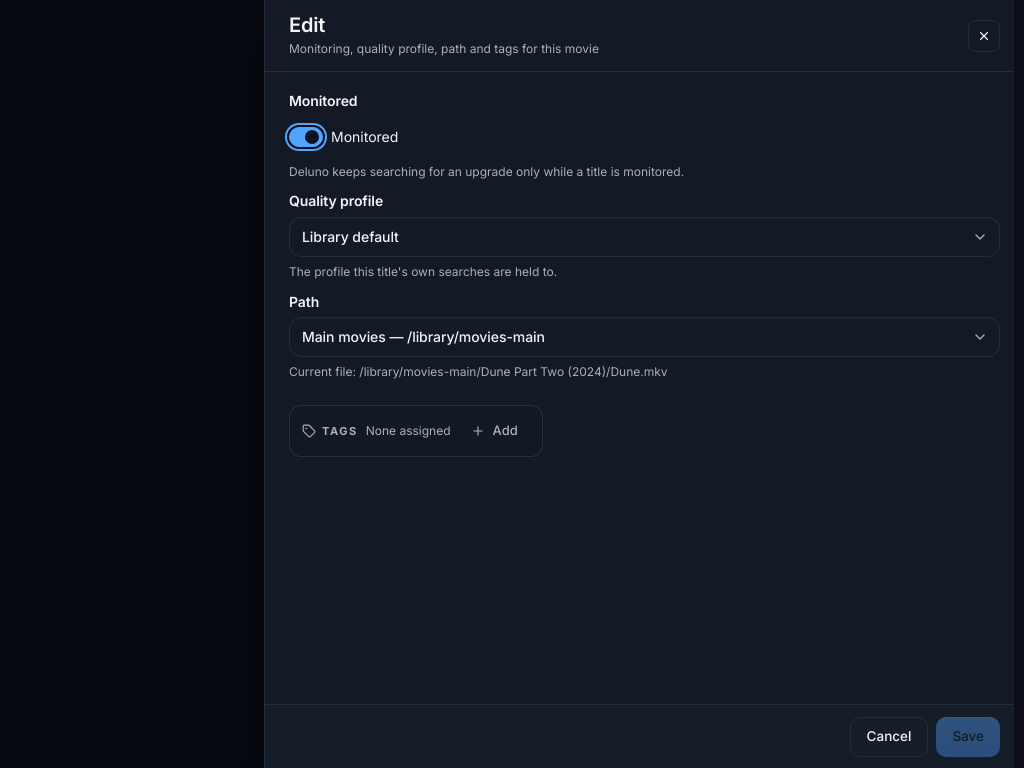
Scenario: MovieEditDrawer (#784) › the Monitored switch saves through the monitoring route for this film
The width and height of the screenshot is (1024, 768).
Expected: the dropdown labelled "Path" is shown, [289,318,1000,358]
Click the switch.
click(306, 137)  # box [289,127,323,147]
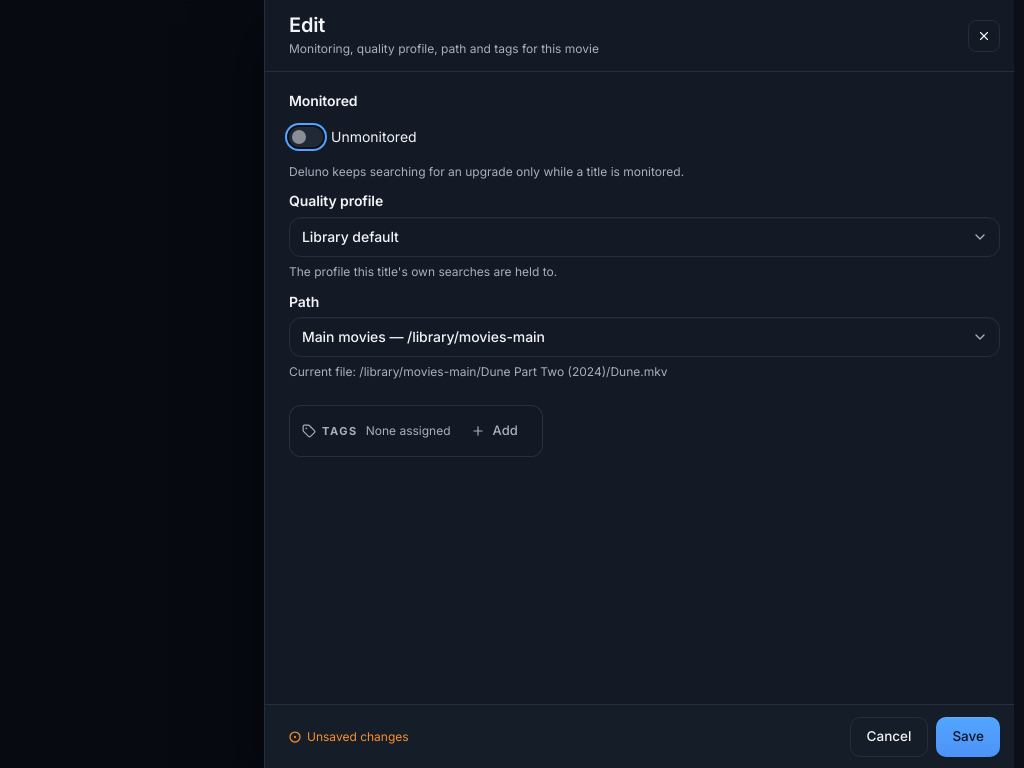
Click the button "Save".
click(968, 736)  # box [936,716,1000,756]
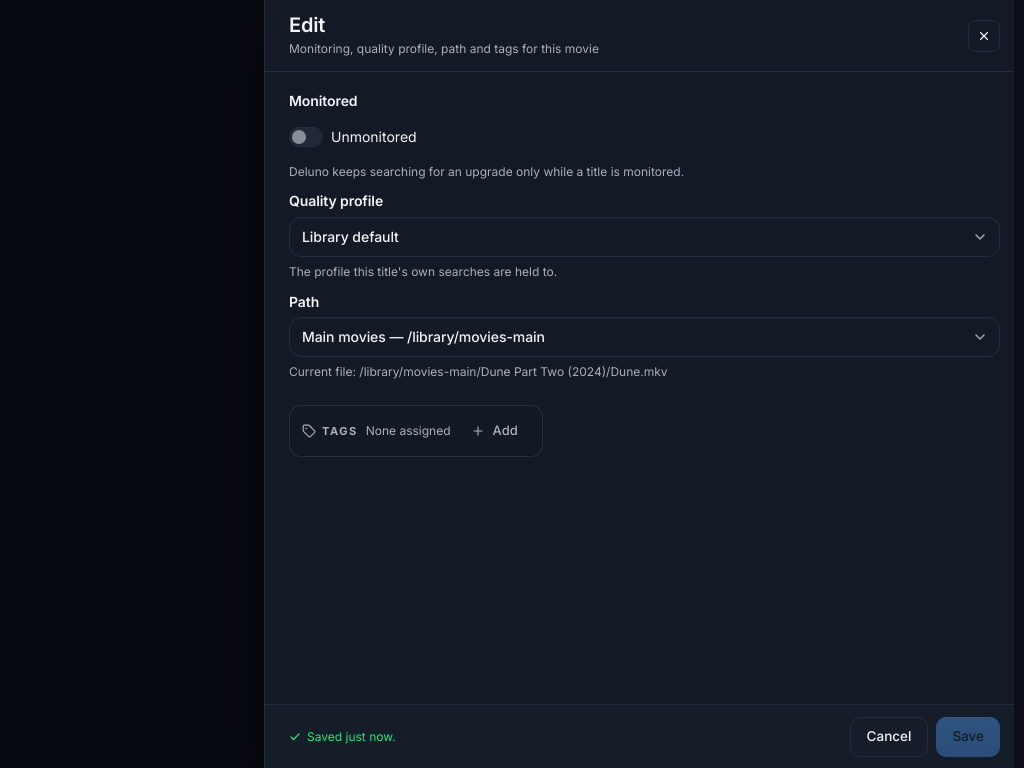
Expected: the text "Saved just now." is shown, [307,728,396,746]
